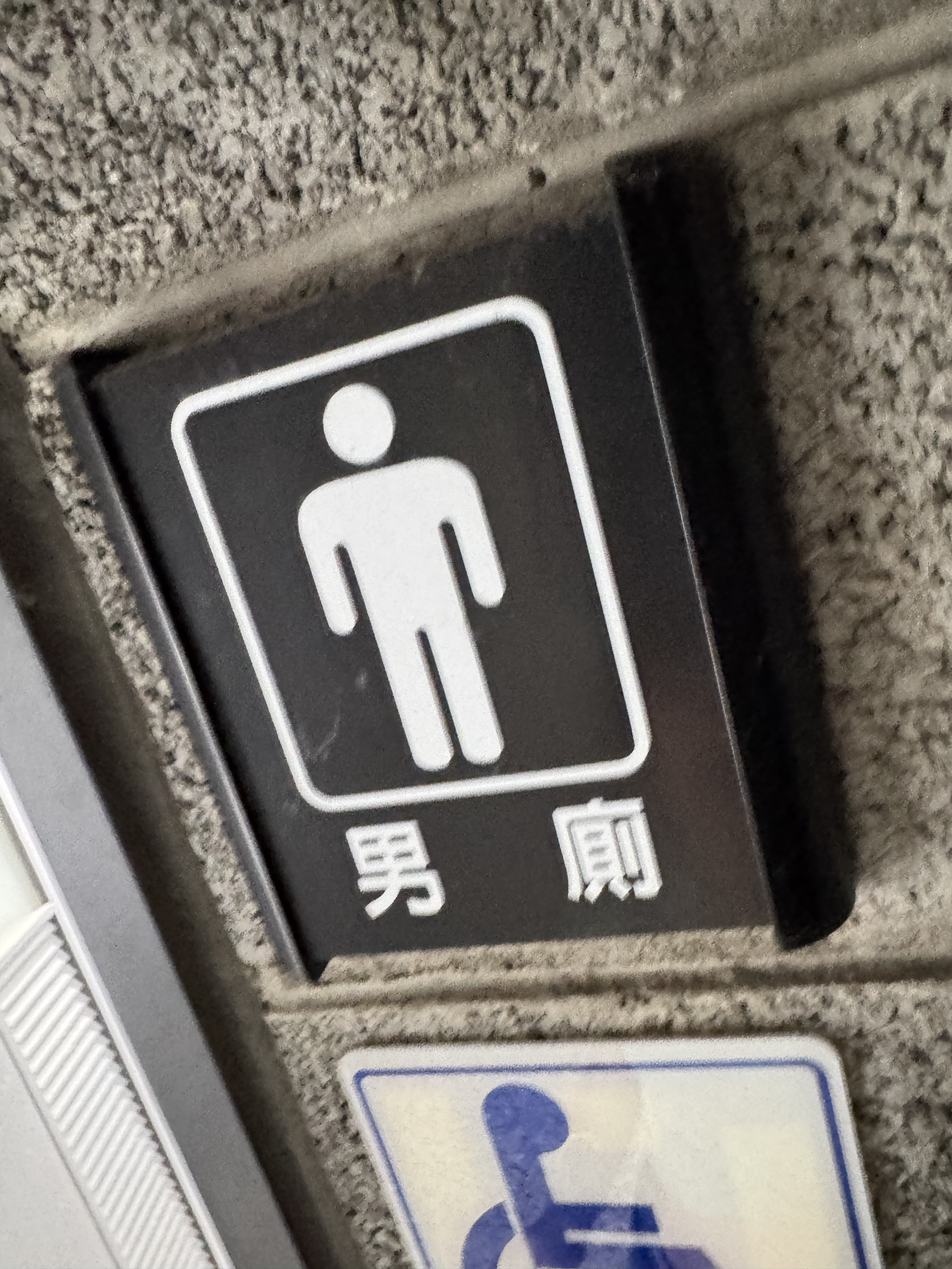toilet_sign: (42, 128, 867, 998), (48, 176, 865, 947)
